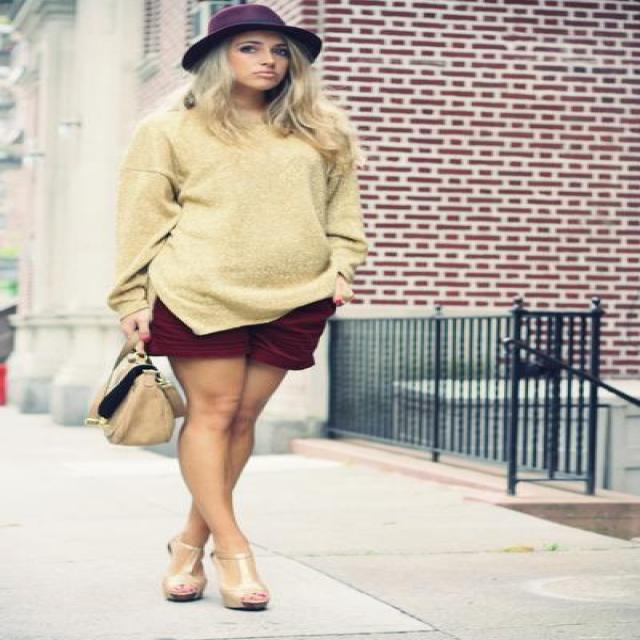bag: (96, 365, 171, 445)
hat: (182, 4, 320, 63)
jacket: (107, 104, 376, 334)
shoe: (160, 534, 267, 612)
shorts: (142, 296, 325, 369)
